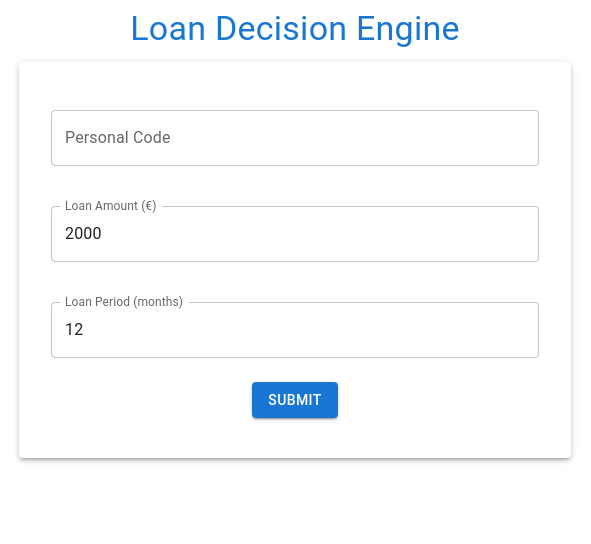
Scenario: App Component › displays a fallback error message when no specific error message is provided
Type "12345678901" into the field labelled "Personal Code" at (295, 138), box top-left (51, 110), bottom-right (539, 166)
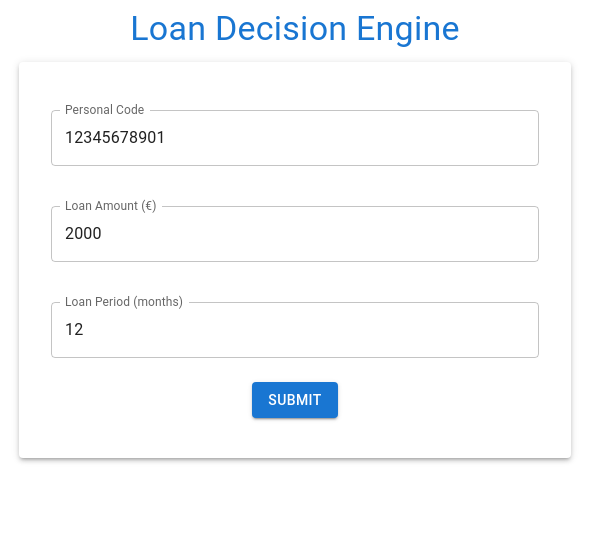
Replace the text in the number field labelled "Loan Amount (€)" with "5000" at (295, 234), box top-left (51, 206), bottom-right (539, 262)
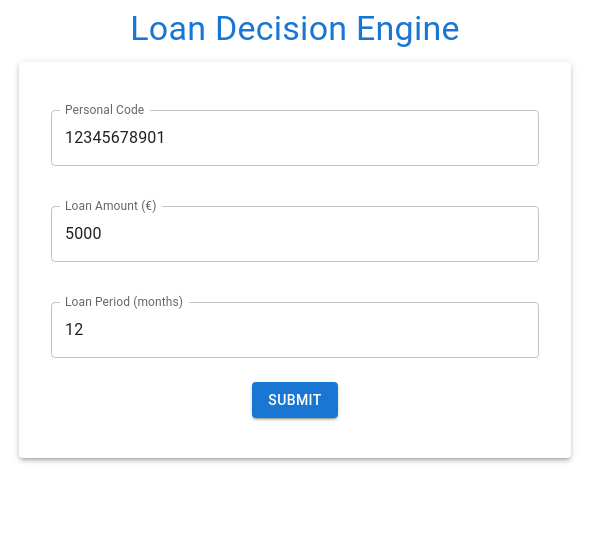
Replace the text in the number field labelled "Loan Period (months)" with "24" at (295, 330), box top-left (51, 302), bottom-right (539, 358)
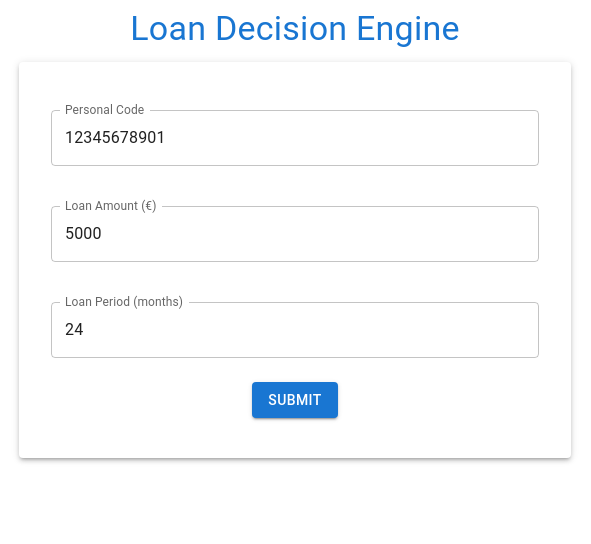
Click the button "Submit" at (295, 400), box top-left (252, 382), bottom-right (338, 418)
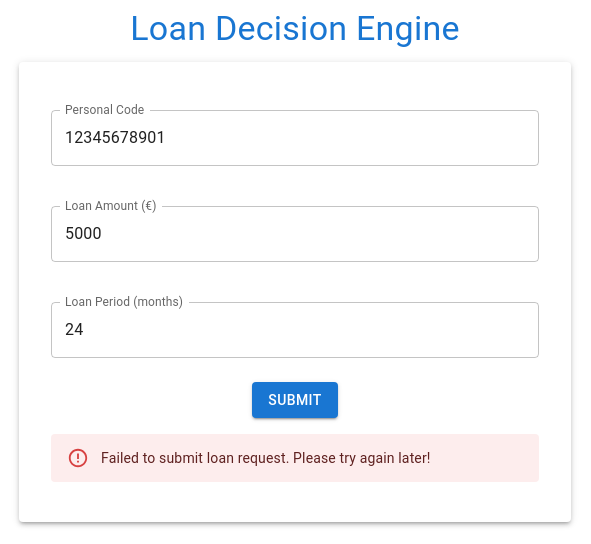
Result: the text "Failed to submit loan request. Please try again later!" is shown at top-left (101, 450), bottom-right (431, 466)
